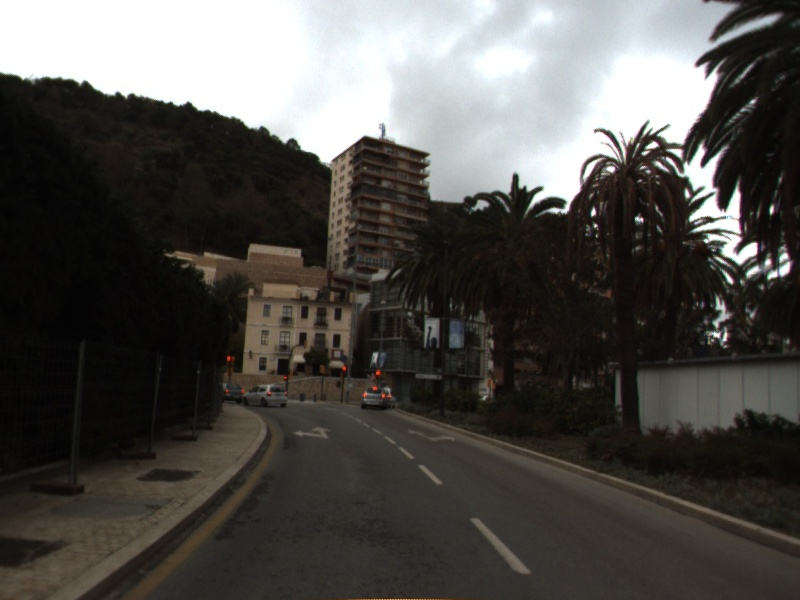STRAIGHT_LEFT: (291, 424, 334, 441)
STRAIGHT_RIGHT: (405, 426, 459, 444)
